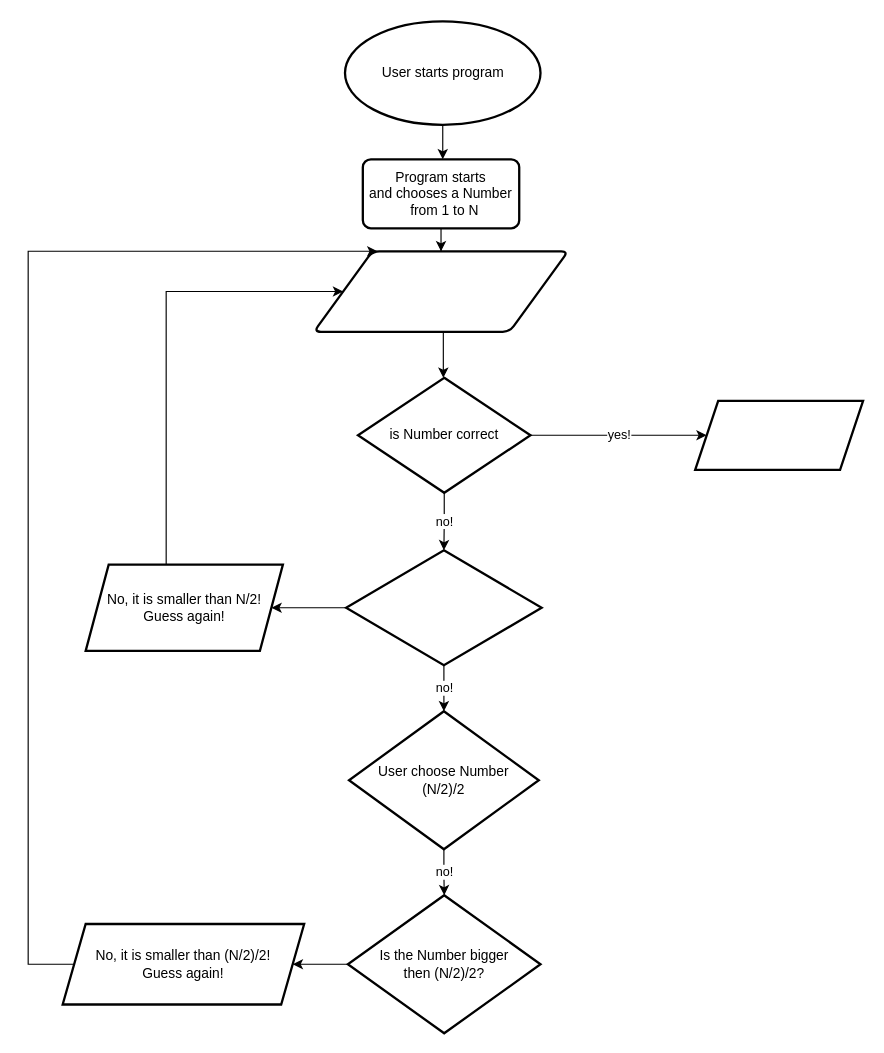
Image size: 884x1053. Some labels were removed from this diagram. The shapes that lost their labels are listed below. From the top down, each one's centre as x and y in pixels, then its label:
[440,291]: User choose Number N/2
[778,434]: Output: "Congrats!"
[443,607]: Is the Number bigger then N/2?
